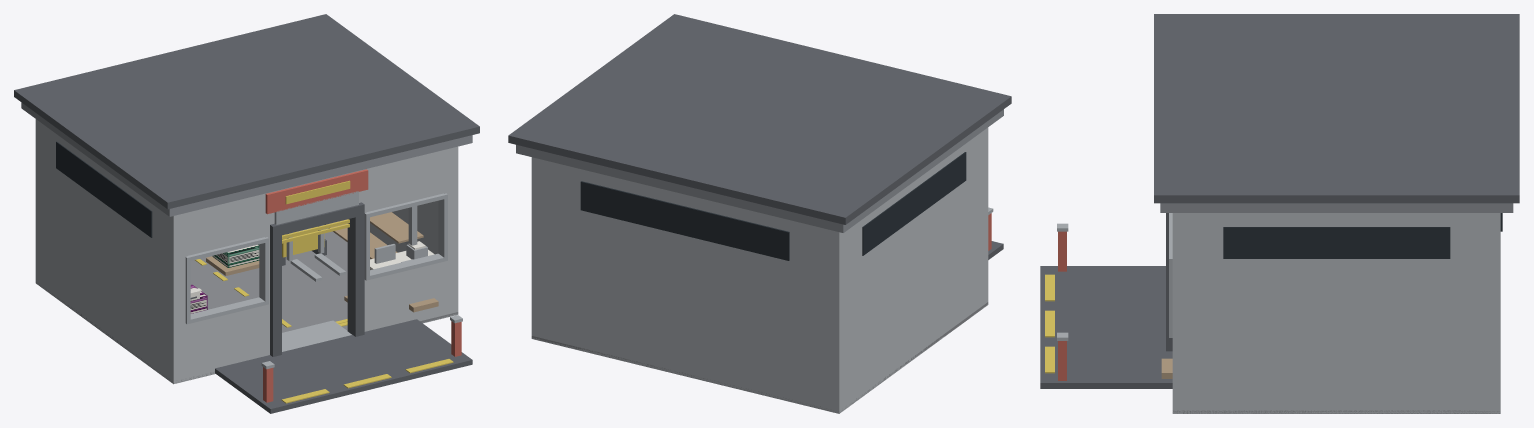
File: rv_warehouse.gltf
3 renders of one model, left to right at view 1: azimuth 30°, elevation 25°; view 2: azimuth 150°, elevation 25°; view 3: azimuth 270°, elevation 25°, orthographic. The views are drawn at different scales.
Visible parts, largest first — view 1: RV_Warehouse; view 2: RV_Warehouse; view 3: RV_Warehouse.
Part boxes in pixels (<box>): RV_Warehouse: <box>14,14,479,413</box>; RV_Warehouse: <box>508,14,1011,413</box>; RV_Warehouse: <box>1040,14,1519,413</box>.
Size of the model in its own units: 6.8 by 4.58 by 7.6.
Materials: 14 (1 with a texture image).
